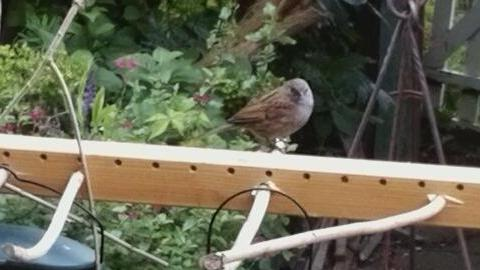dunnock: (207, 77, 314, 154)
